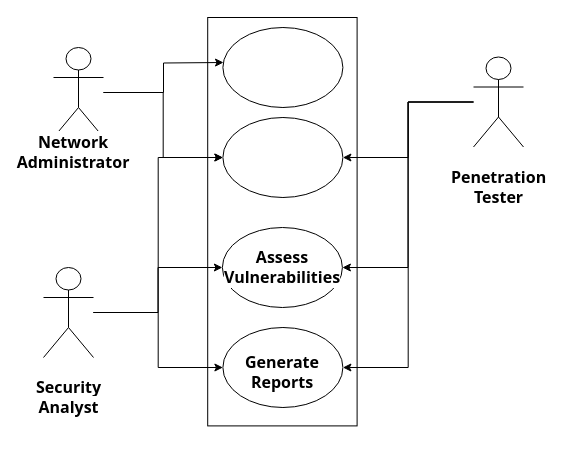
Image size: 563x449. Some labels were removed from this diagram. The shapes that lost their labels are listed below. From the top down, each one's box as (x1, y1, x2, y2) in pixels, then its label:
(222, 26, 343, 108): Scan Network
(222, 116, 343, 198): Discover Subdomains
